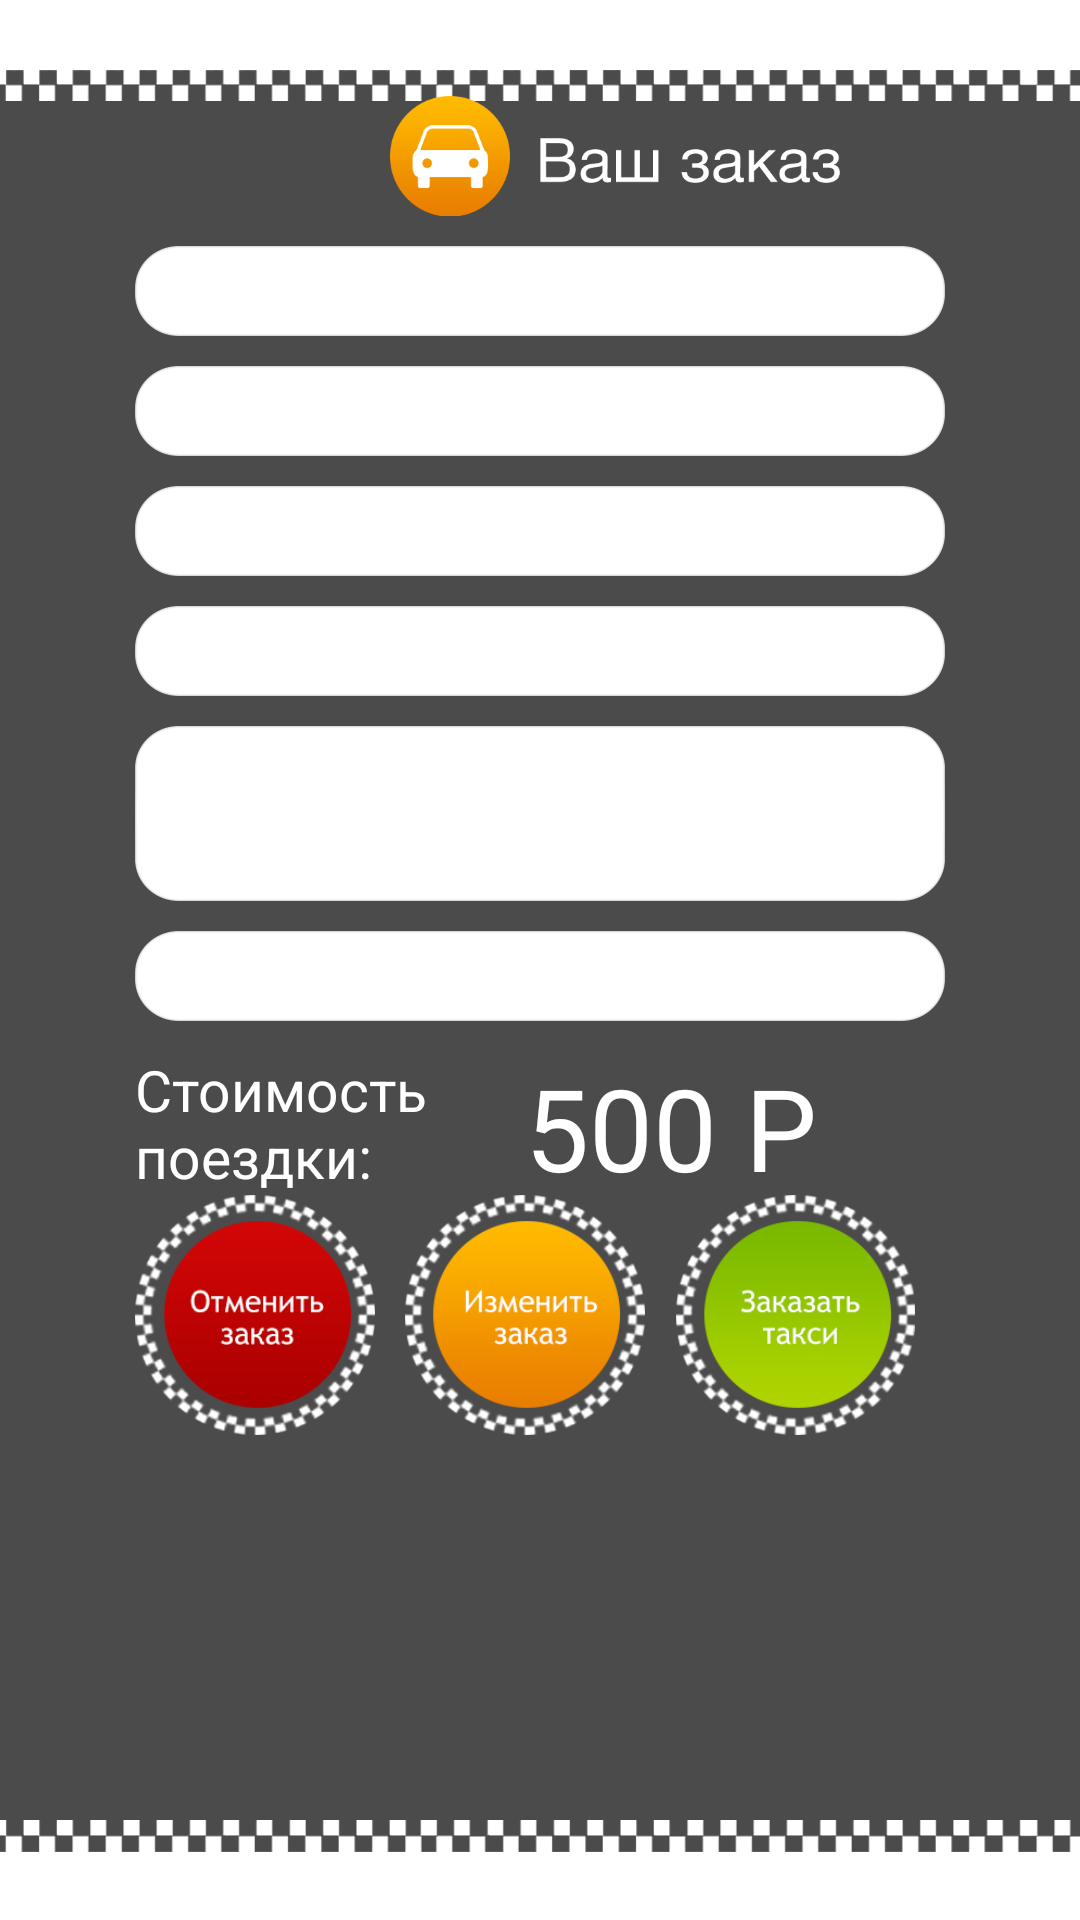

Screen size 1080 x 1920. Icon name, then its center in pixels as point (x, y):
order caption car: point (450, 156)
